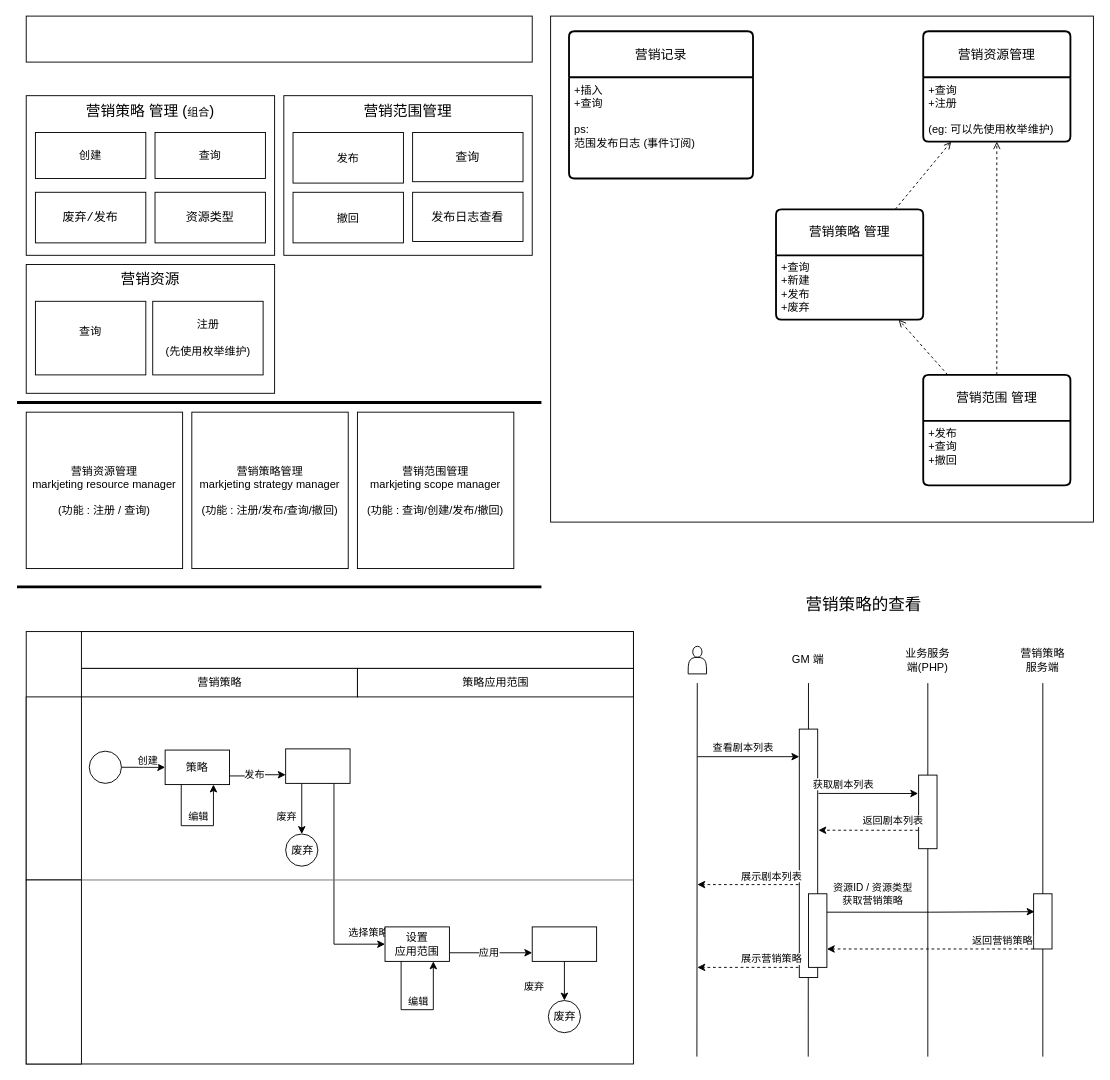
This 1110x1080 diagram has some shape labels left out. Each missing label, with the centre of its shape:
"发布 营销策略" belongs at pixel 53 788.
"已发布 策略" belongs at pixel 317 765.
"已应用 营销策略" belongs at pixel 564 943.
"应用 营销策略" belongs at pixel 53 971.
"开始" belongs at pixel 104 766.
"营销中心 marketing center" belongs at pixel 278 38.
"营销策略管理" belongs at pixel 356 649.
